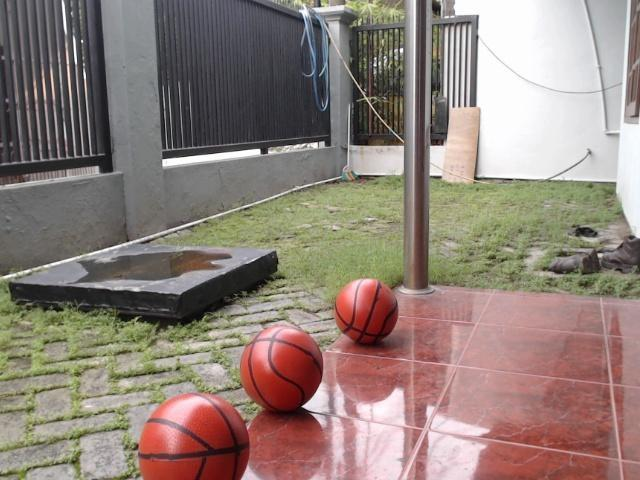Sports-Ball: (138, 395, 259, 480), (240, 323, 326, 416), (336, 275, 397, 346)
